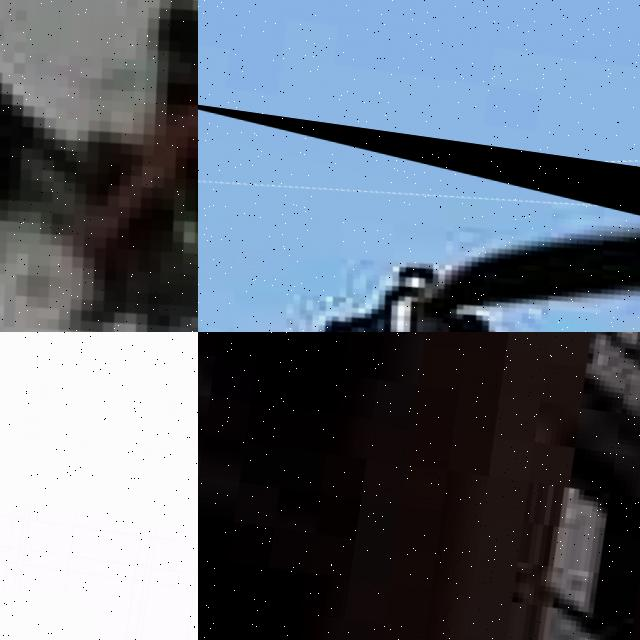drone: (198, 98, 640, 332), (0, 0, 198, 332)
